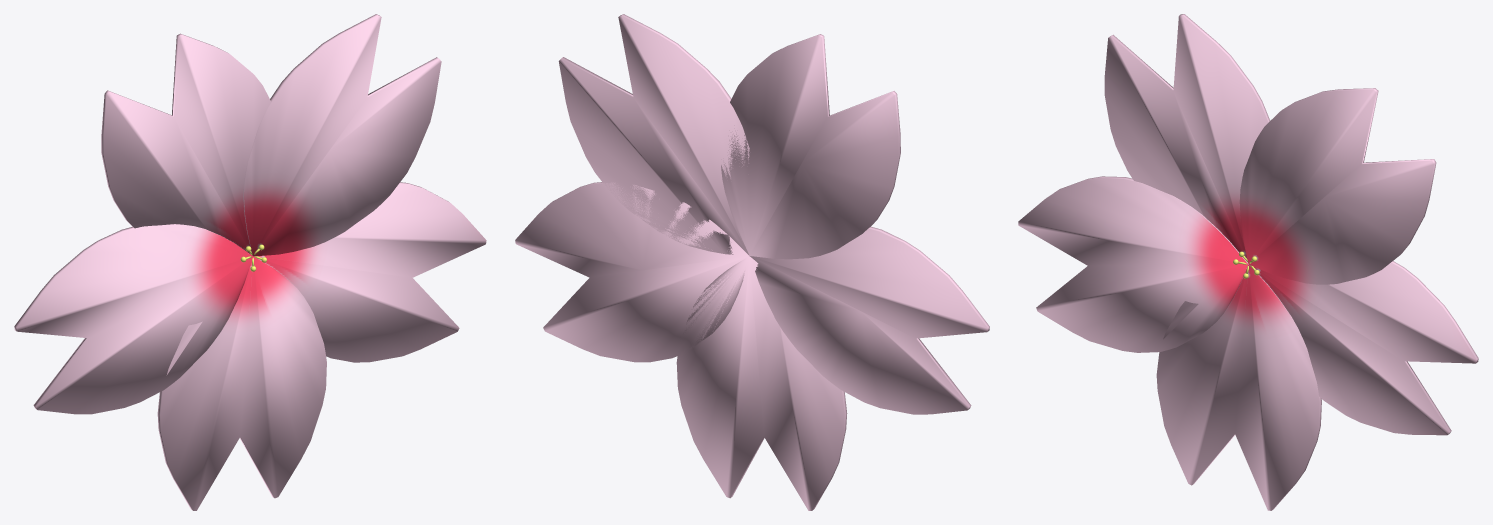
The model's file is sakura.fbx.
3 views of the same model, side by side, from view 1: azimuth 30°, elevation 25°; view 2: azimuth 150°, elevation 25°; view 3: azimuth 330°, elevation 25° (orthographic). The views are drawn at different scales.
Visible parts, largest first — view 1: Plane.016; view 2: Plane.016; view 3: Plane.016.
Boxes of the visible parts, left/top/right/bottom form: Plane.016: left=14, top=14, right=486, bottom=510; Plane.016: left=515, top=14, right=989, bottom=510; Plane.016: left=1018, top=14, right=1478, bottom=510.
Size of the model in its own units: 0.5749 by 0.5655 by 0.0145.
